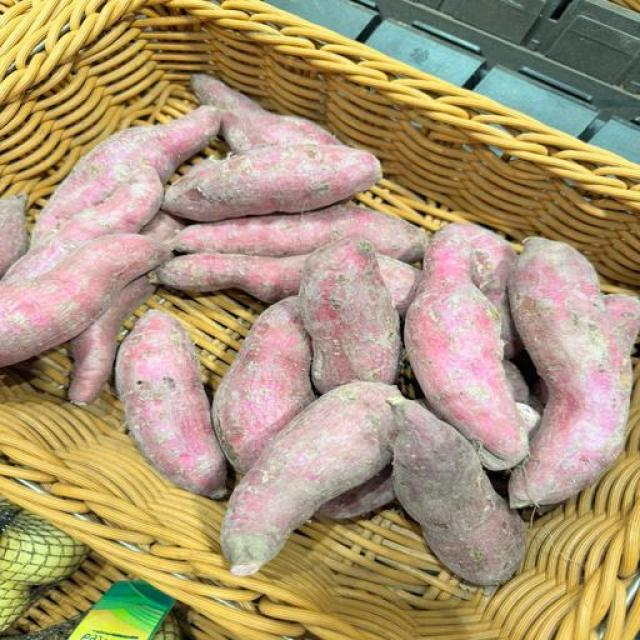organic: (0, 1, 640, 640), (70, 582, 173, 639)
